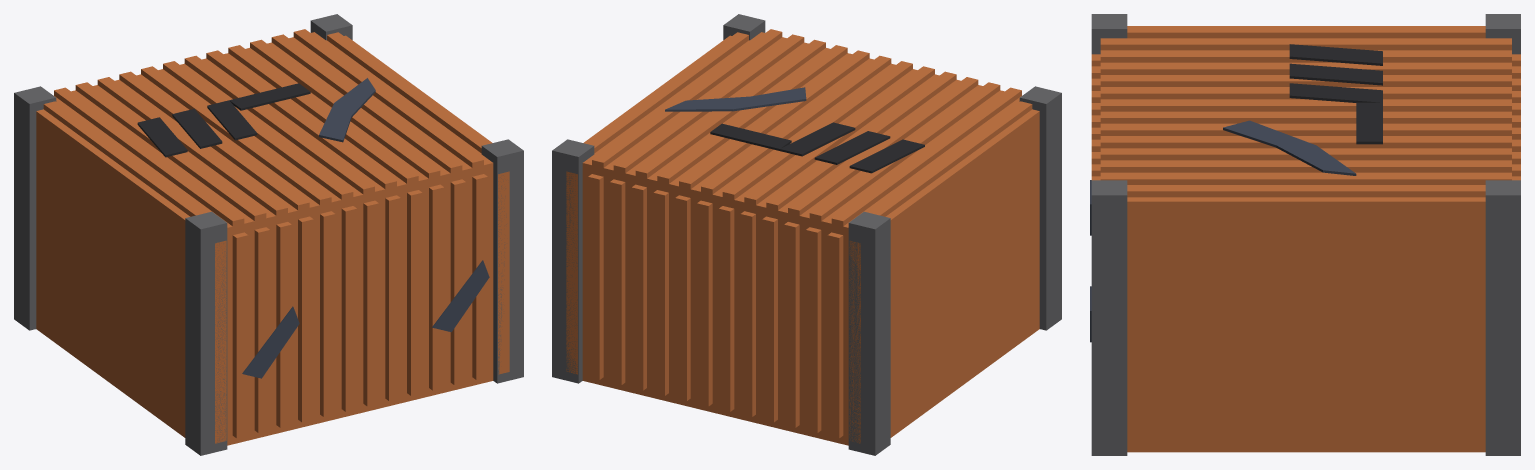
The model's file is vge_trading_container_e.obj.
The picture shows the model from 3 angles, left to right: view 1: azimuth 30°, elevation 25°; view 2: azimuth 150°, elevation 25°; view 3: azimuth 270°, elevation 25°; orthographic projection. The views are drawn at different scales.
Visible parts, largest first — view 1: vge_trading_container_e_0, vge_trading_container_e_43, vge_trading_container_e_44, vge_trading_container_e_45, vge_trading_container_e_20, vge_trading_container_e_5, vge_trading_container_e_26, vge_trading_container_e_29, vge_trading_container_e_23, vge_trading_container_e_14, vge_trading_container_e_17, vge_trading_container_e_4 (+28 smaller); view 2: vge_trading_container_e_0, vge_trading_container_e_44, vge_trading_container_e_46, vge_trading_container_e_43, vge_trading_container_e_21, vge_trading_container_e_6, vge_trading_container_e_15, vge_trading_container_e_27, vge_trading_container_e_33, vge_trading_container_e_39, vge_trading_container_e_9, vge_trading_container_e_30 (+26 smaller); view 3: vge_trading_container_e_0, vge_trading_container_e_45, vge_trading_container_e_46, vge_trading_container_e_4, vge_trading_container_e_37, vge_trading_container_e_22, vge_trading_container_e_19, vge_trading_container_e_34, vge_trading_container_e_31, vge_trading_container_e_1, vge_trading_container_e_40, vge_trading_container_e_10 (+12 smaller).
Part boxes in pixels (box(x1,y1,x2,y2)): vge_trading_container_e_0: box(36, 32, 493, 445); vge_trading_container_e_43: box(185, 211, 227, 455); vge_trading_container_e_44: box(14, 86, 56, 330); vge_trading_container_e_45: box(481, 139, 523, 383); vge_trading_container_e_20: box(341, 206, 357, 411); vge_trading_container_e_5: box(232, 232, 248, 438); vge_trading_container_e_26: box(385, 195, 400, 401); vge_trading_container_e_29: box(407, 190, 422, 395); vge_trading_container_e_23: box(363, 200, 378, 406); vge_trading_container_e_14: box(298, 216, 313, 422); vge_trading_container_e_17: box(320, 211, 335, 416); vge_trading_container_e_4: box(54, 87, 244, 226); vge_trading_container_e_0: box(582, 32, 1039, 445); vge_trading_container_e_44: box(848, 211, 890, 455); vge_trading_container_e_46: box(552, 139, 594, 383); vge_trading_container_e_43: box(1019, 86, 1061, 330); vge_trading_container_e_21: box(718, 206, 734, 411); vge_trading_container_e_6: box(827, 232, 843, 438); vge_trading_container_e_15: box(762, 216, 777, 422); vge_trading_container_e_27: box(675, 195, 690, 401); vge_trading_container_e_33: box(631, 184, 646, 390); vge_trading_container_e_39: box(588, 174, 603, 379); vge_trading_container_e_9: box(806, 227, 821, 432); vge_trading_container_e_30: box(653, 190, 668, 395); vge_trading_container_e_0: box(1127, 197, 1485, 452); vge_trading_container_e_45: box(1091, 180, 1127, 455); vge_trading_container_e_46: box(1485, 180, 1520, 455); vge_trading_container_e_4: box(1100, 38, 1511, 50); vge_trading_container_e_37: box(1100, 172, 1511, 184); vge_trading_container_e_22: box(1100, 111, 1511, 123); vge_trading_container_e_19: box(1100, 99, 1511, 111); vge_trading_container_e_34: box(1100, 160, 1511, 172); vge_trading_container_e_31: box(1100, 148, 1511, 160); vge_trading_container_e_1: box(1127, 26, 1485, 38); vge_trading_container_e_40: box(1127, 185, 1485, 197); vge_trading_container_e_10: box(1100, 62, 1511, 74).
Size of the model in its own units: 1.94 by 1.3 by 1.95.
